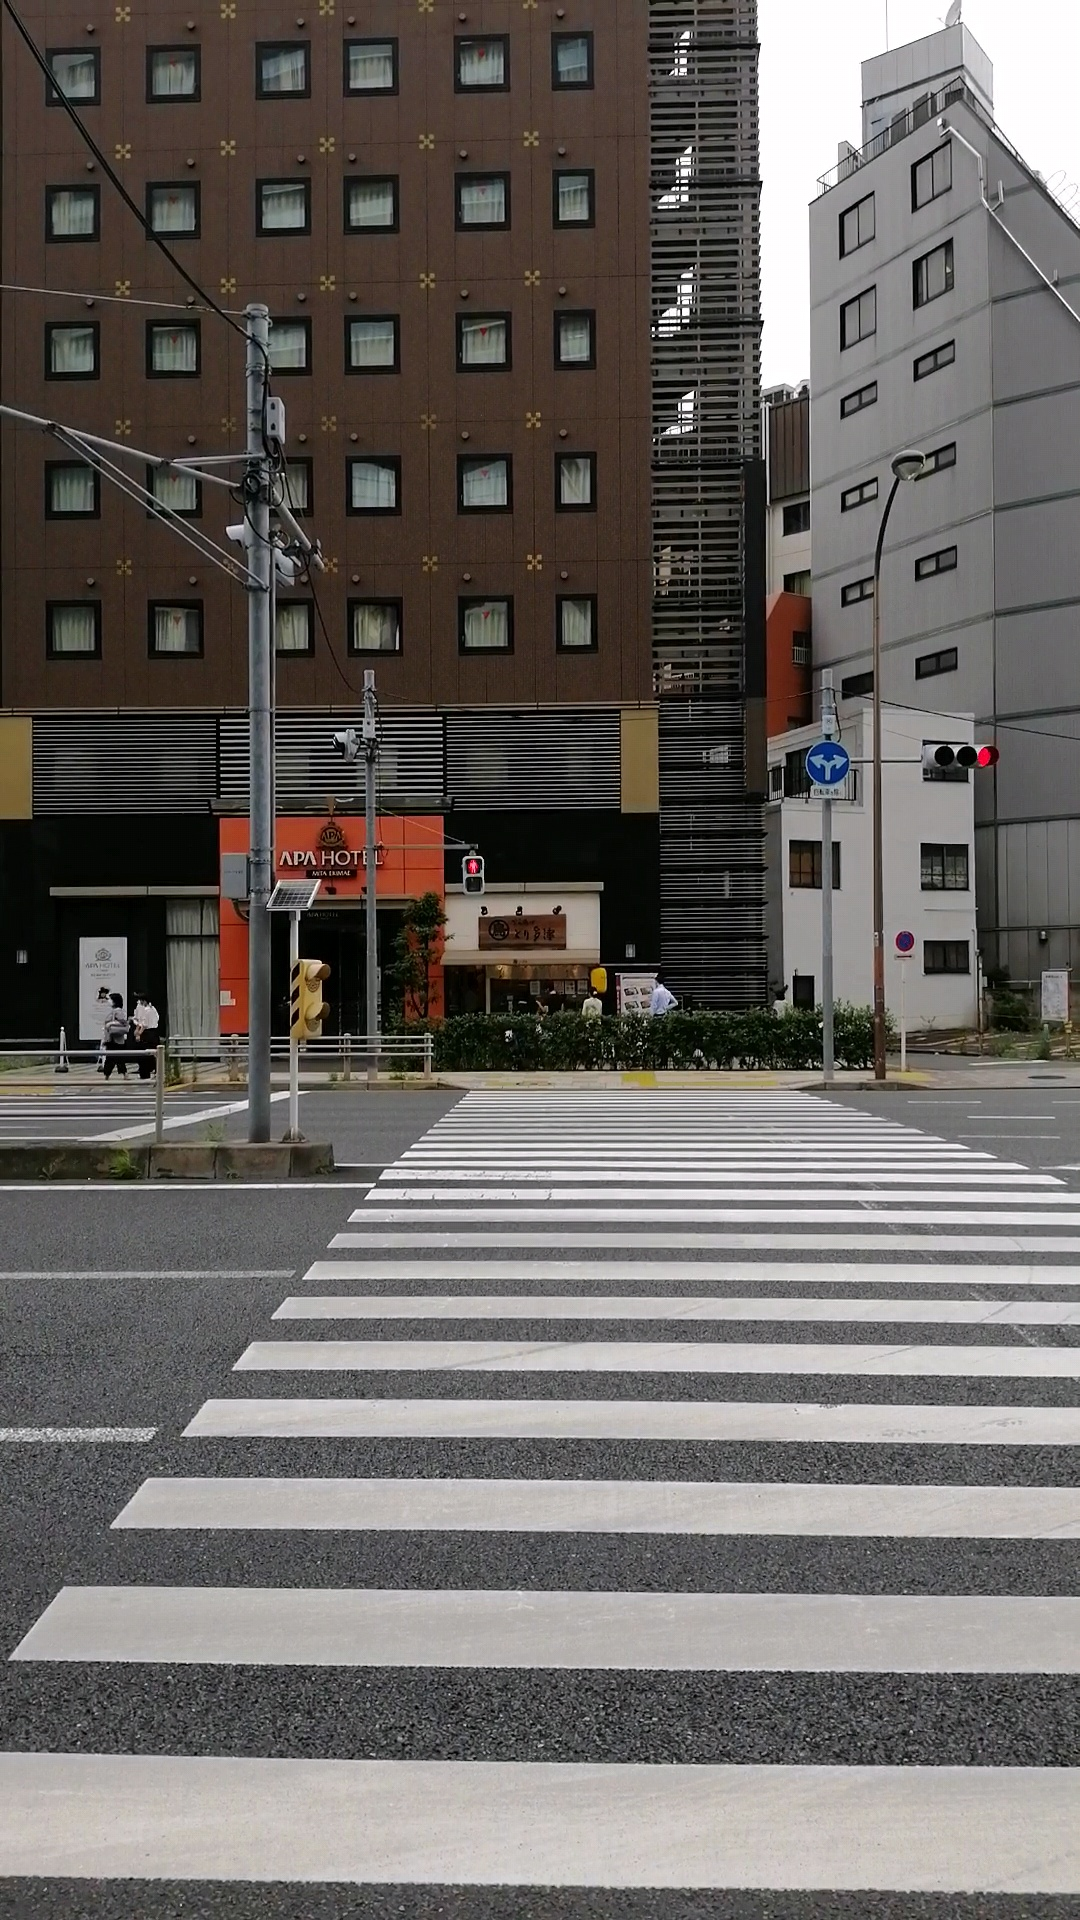red: (462, 853, 485, 895)
